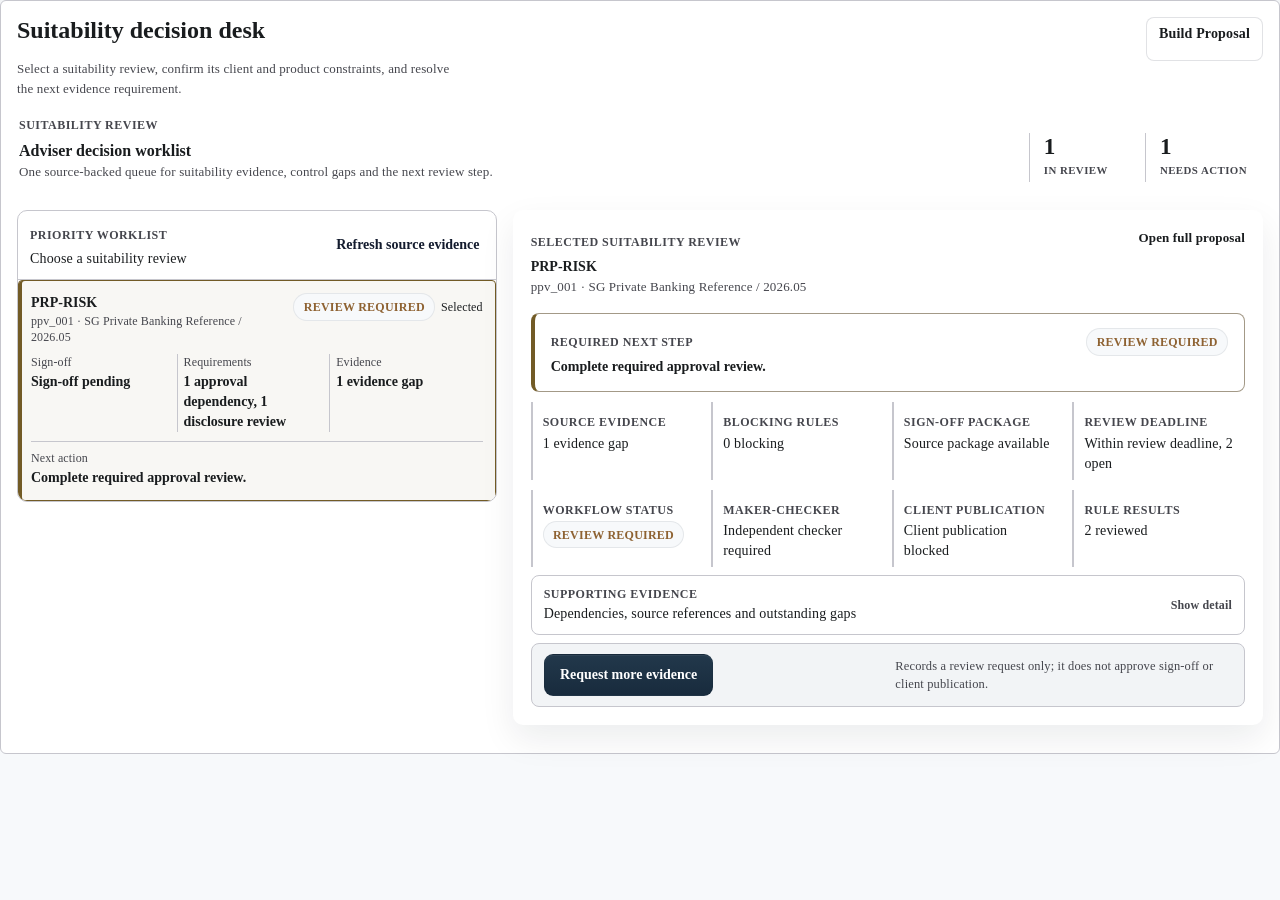
it: ProposalLifecycleWorkspace › records bounded policy evidence review requests through Gateway only
Step 1. Click the button "Request more evidence" → (629, 675), box [544,654,714,696]
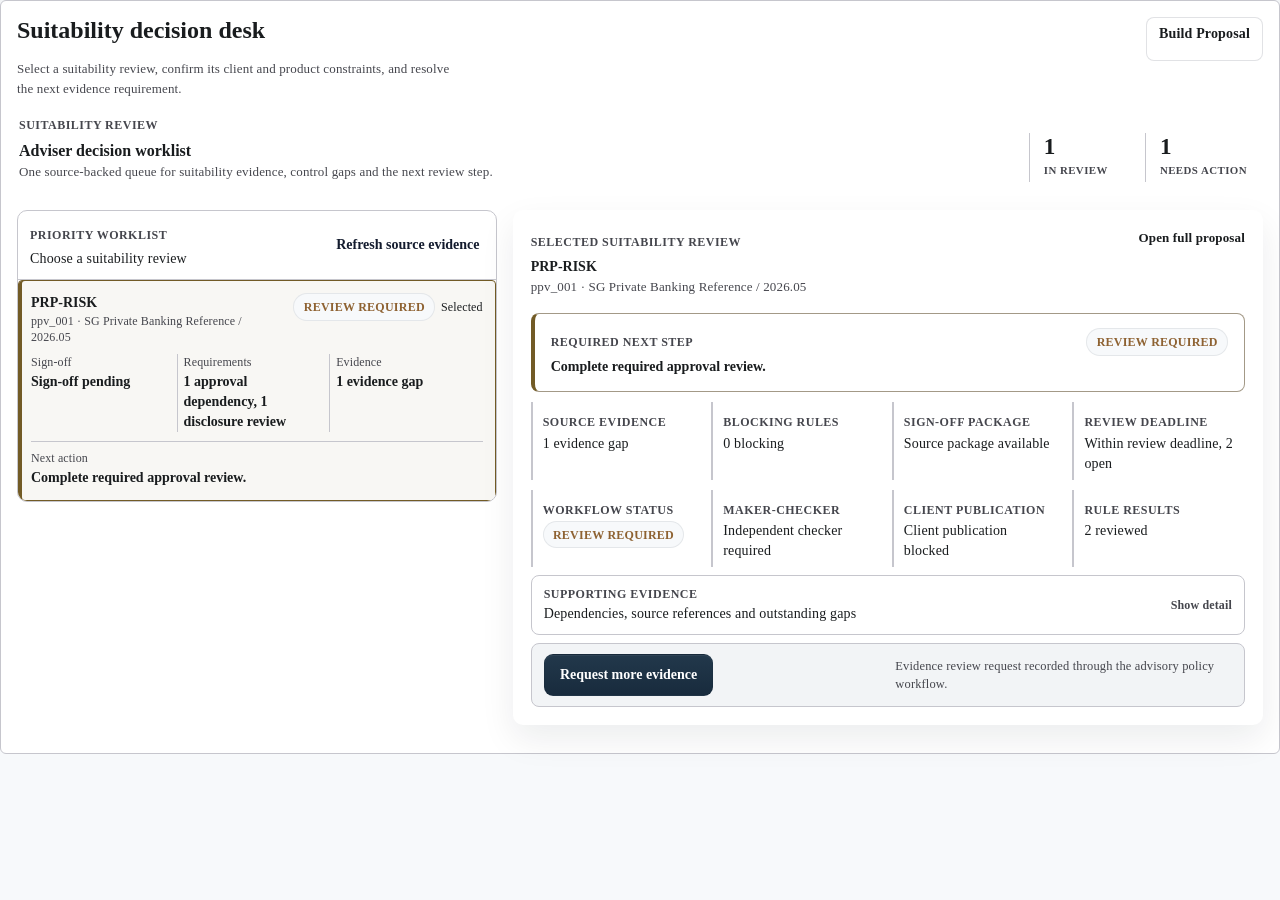
Check: the text "Evidence review request recorded through the advisory policy workflow." is shown, box [895,657,1232,693]
